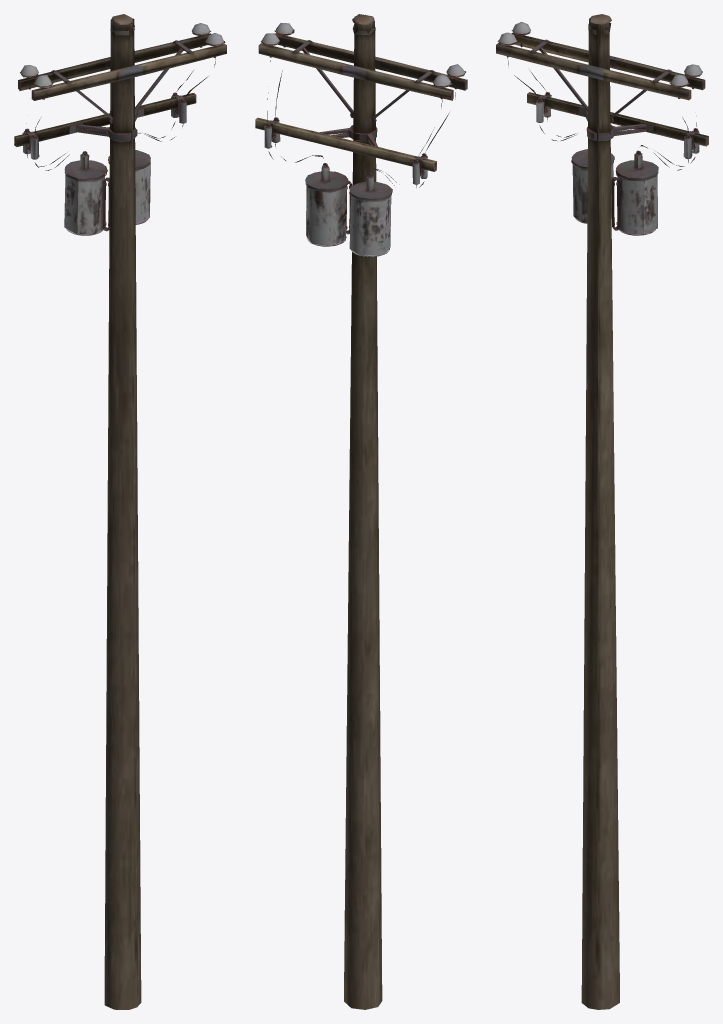
File: pole.glb
3 renders of one model, left to right at view 1: azimuth 30°, elevation 25°; view 2: azimuth 150°, elevation 25°; view 3: azimuth 330°, elevation 25°, orthographic.
Parts seen in each view (by area): view 1: pole; view 2: pole; view 3: pole.
Boxes of the visible parts, box(x1,y1,x2,y2) form: pole: box(14, 14, 226, 1009); pole: box(255, 14, 467, 1009); pole: box(496, 14, 708, 1009).
Size of the model in its own units: 0.931 by 4.55 by 0.3161.
Materials: 1 (1 with a texture image).
